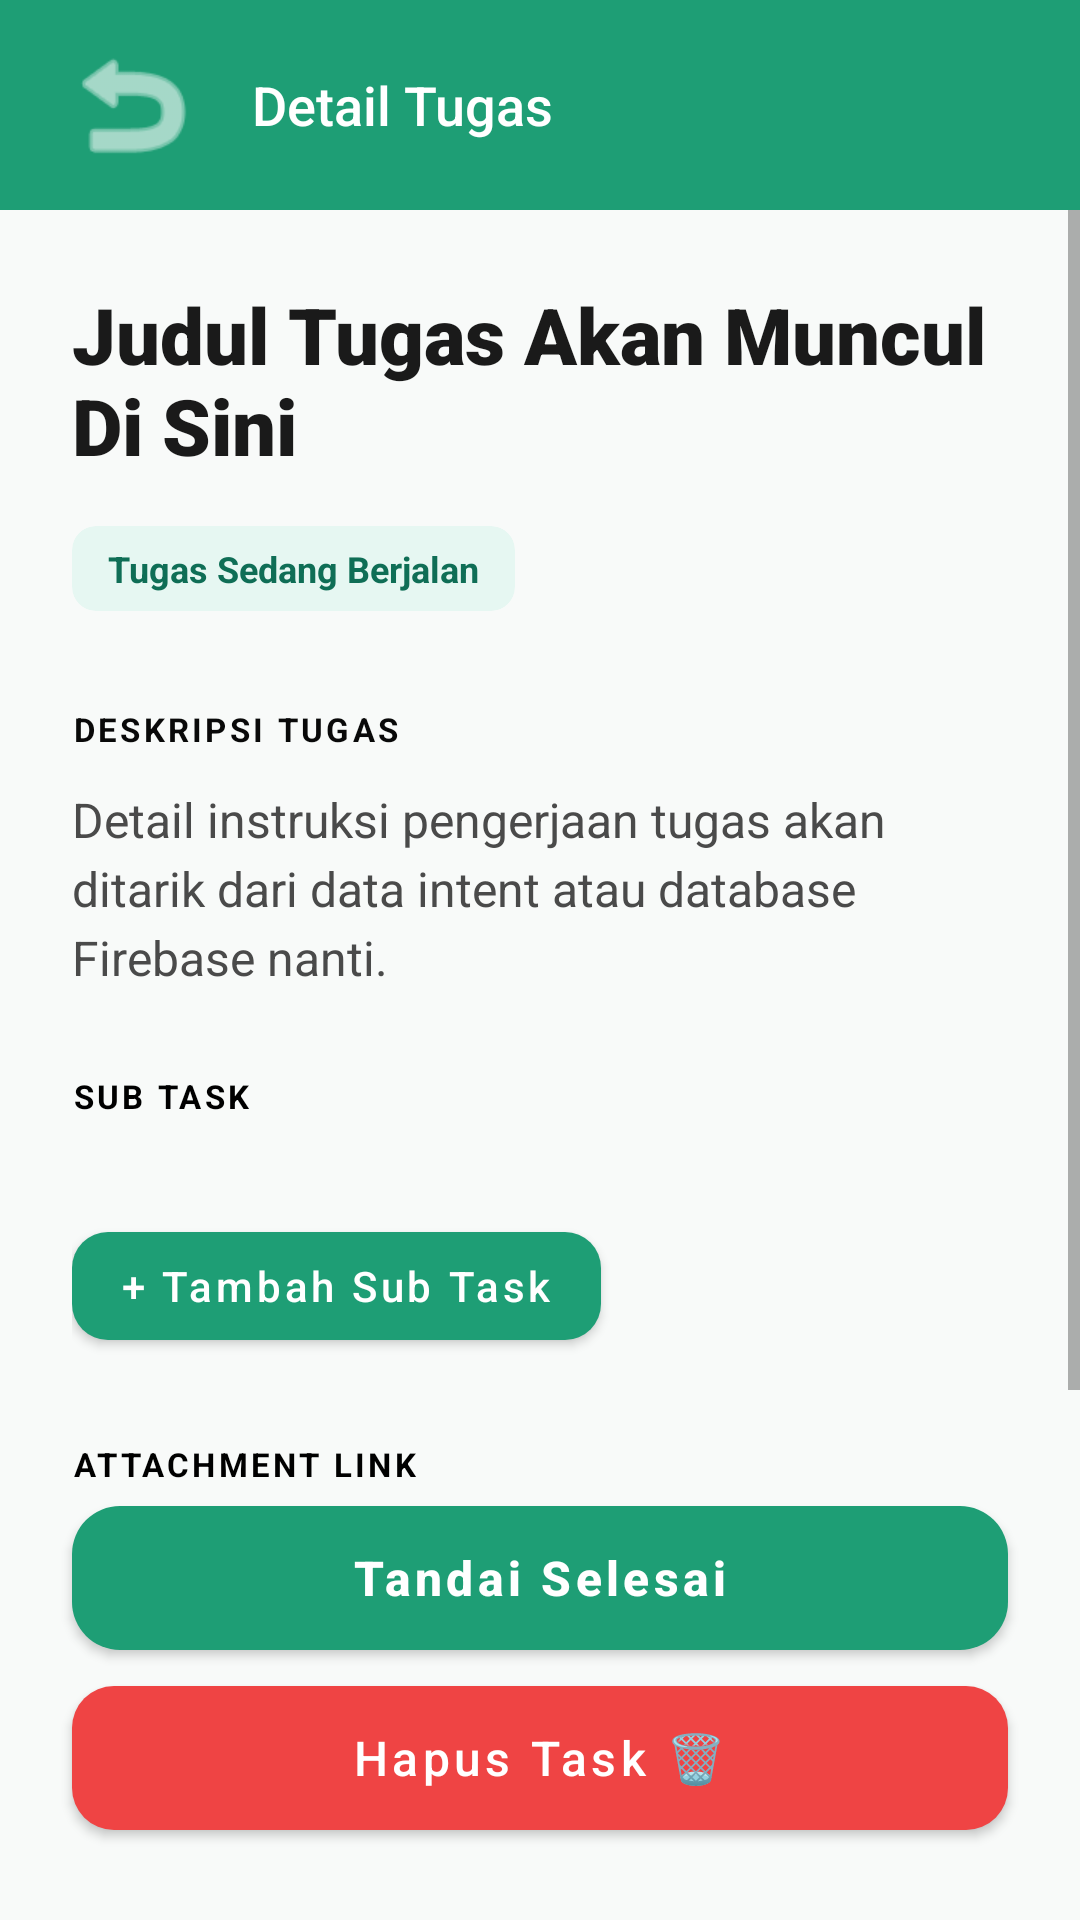

Icon bounding boxes for this 1080×1920 phone screenshot, format (x1, y1, x2, y2):
Kembali: (82, 59, 186, 153)
